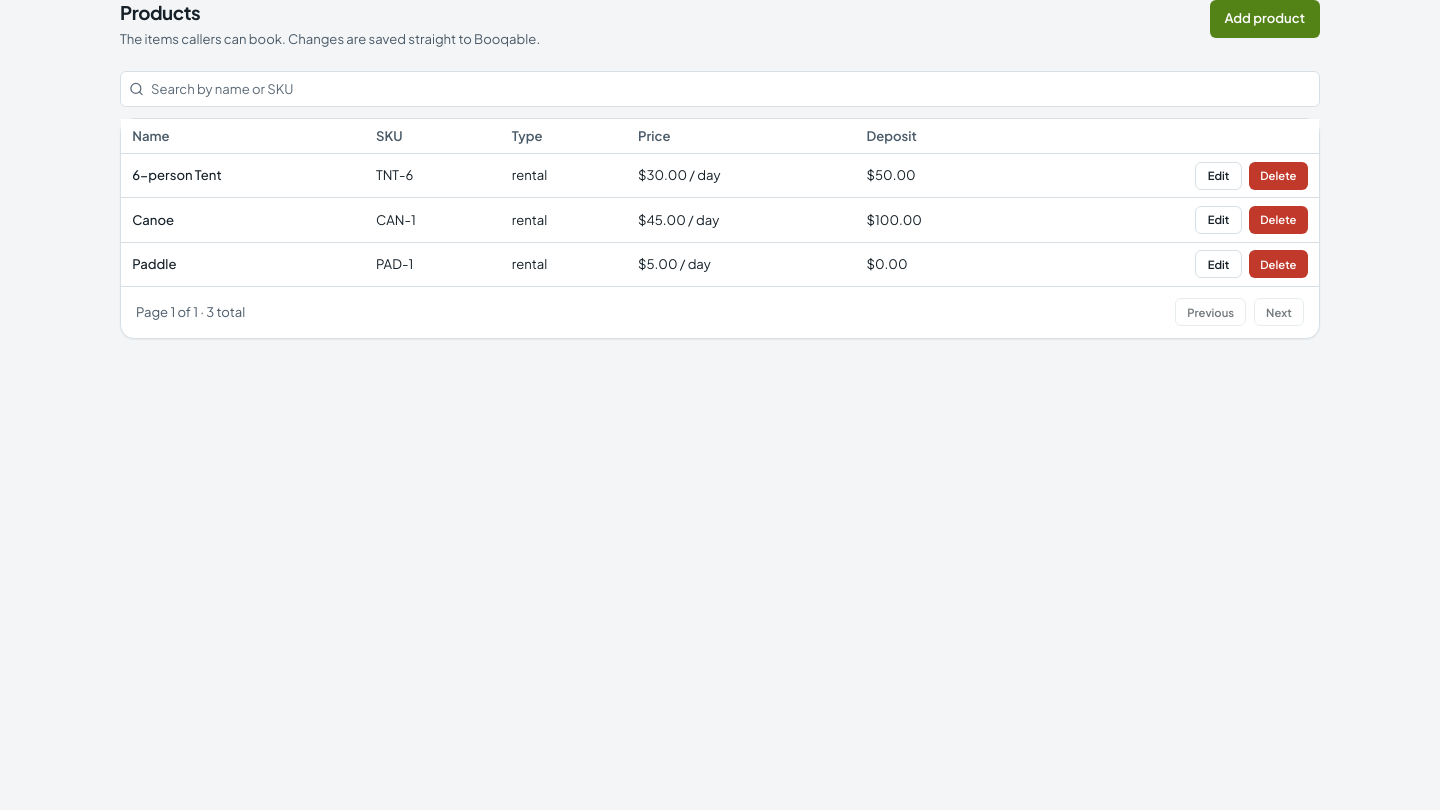
ProductsPage › edits a product without offering creation-only fields
This screenshot has width=1440, height=810.
Check: the text "Canoe" is shown, box top-left (132, 210), bottom-right (174, 228)
Click the button with aria-label "Edit Canoe": point(1218, 220) top-left (1195, 206), bottom-right (1242, 234)
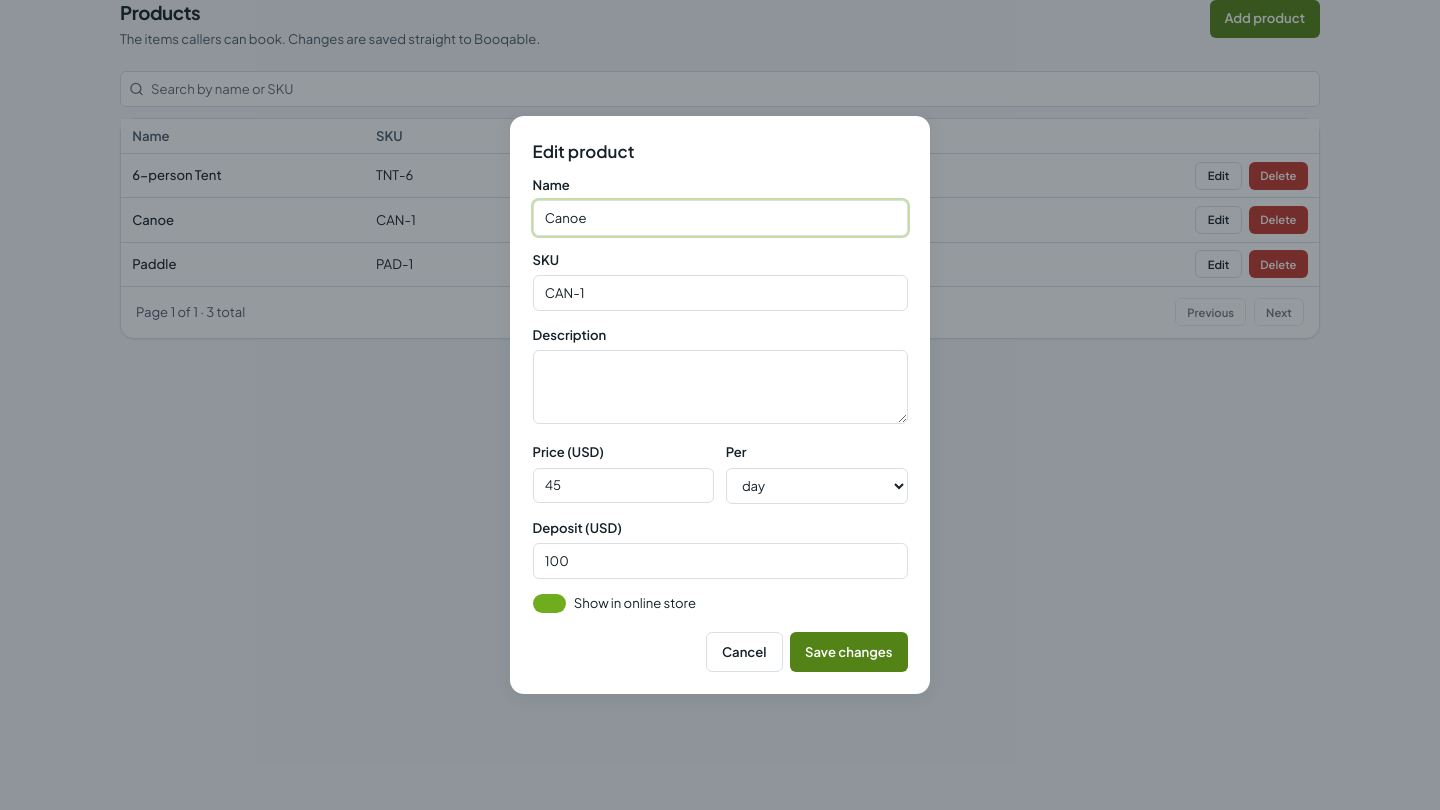
Replace the text in the field labelled "Name" with "Big Canoe": point(720, 218) top-left (532, 200), bottom-right (908, 236)
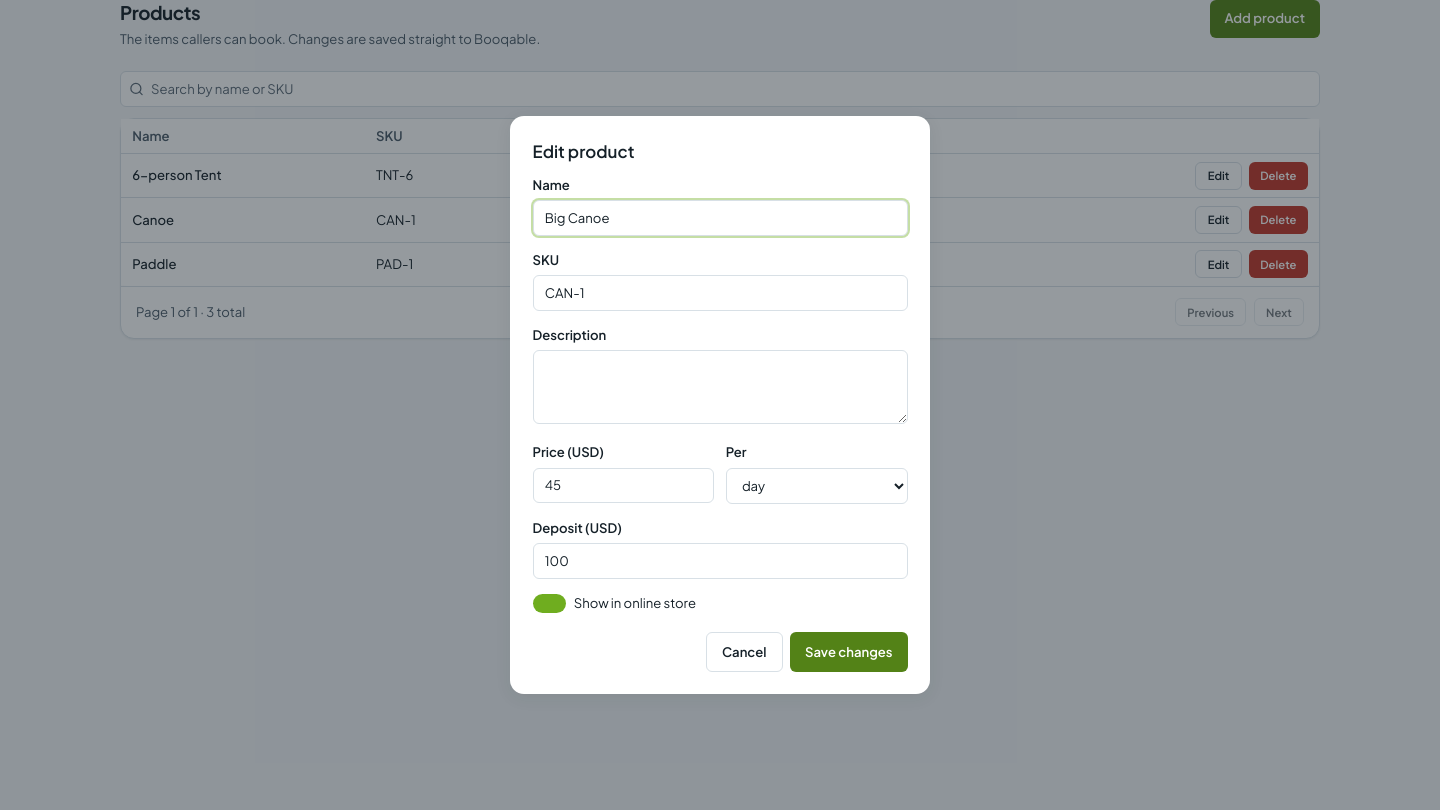
Click the button "Save changes": point(849, 652) top-left (790, 632), bottom-right (908, 672)
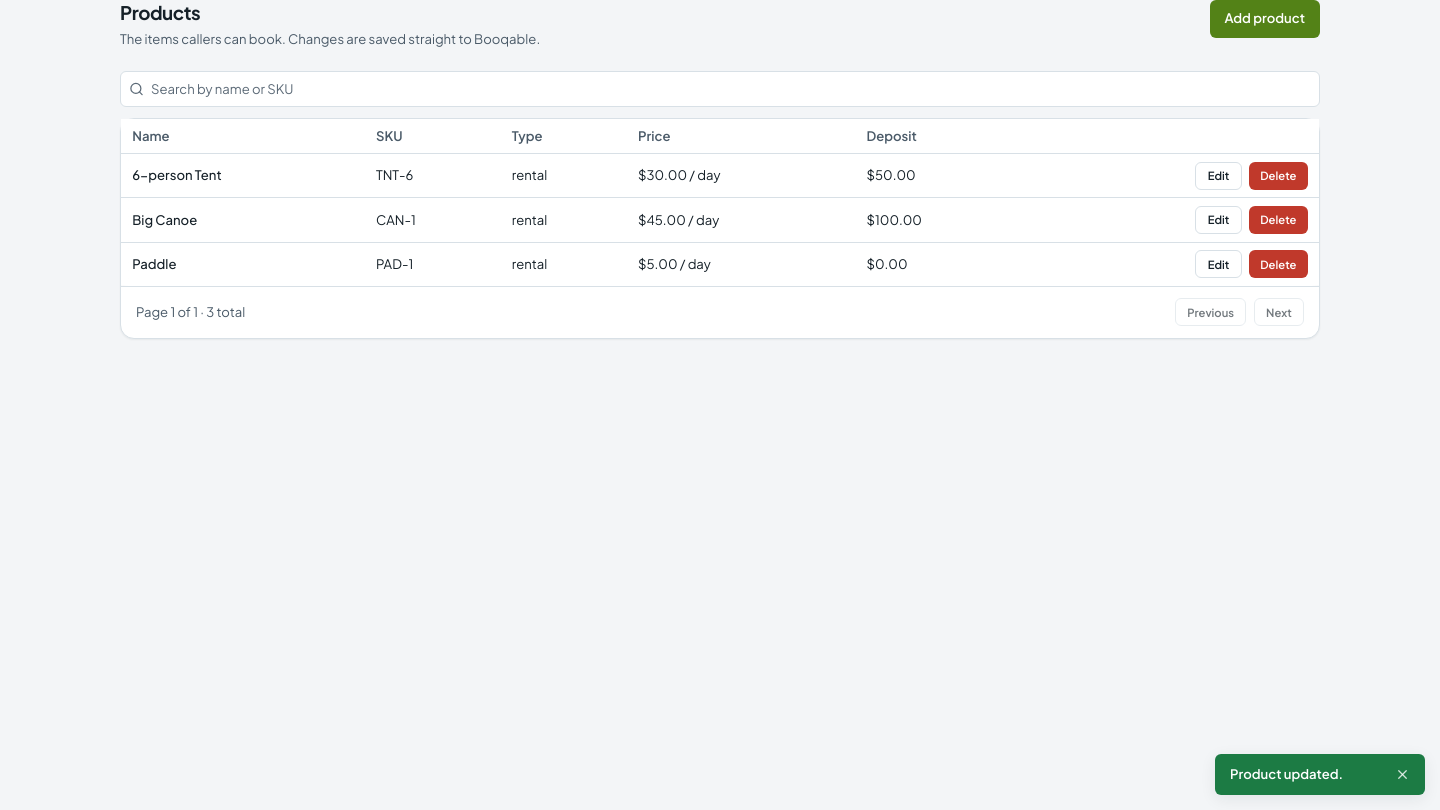
Check: the text "Big Canoe" is shown, box top-left (132, 210), bottom-right (197, 228)
